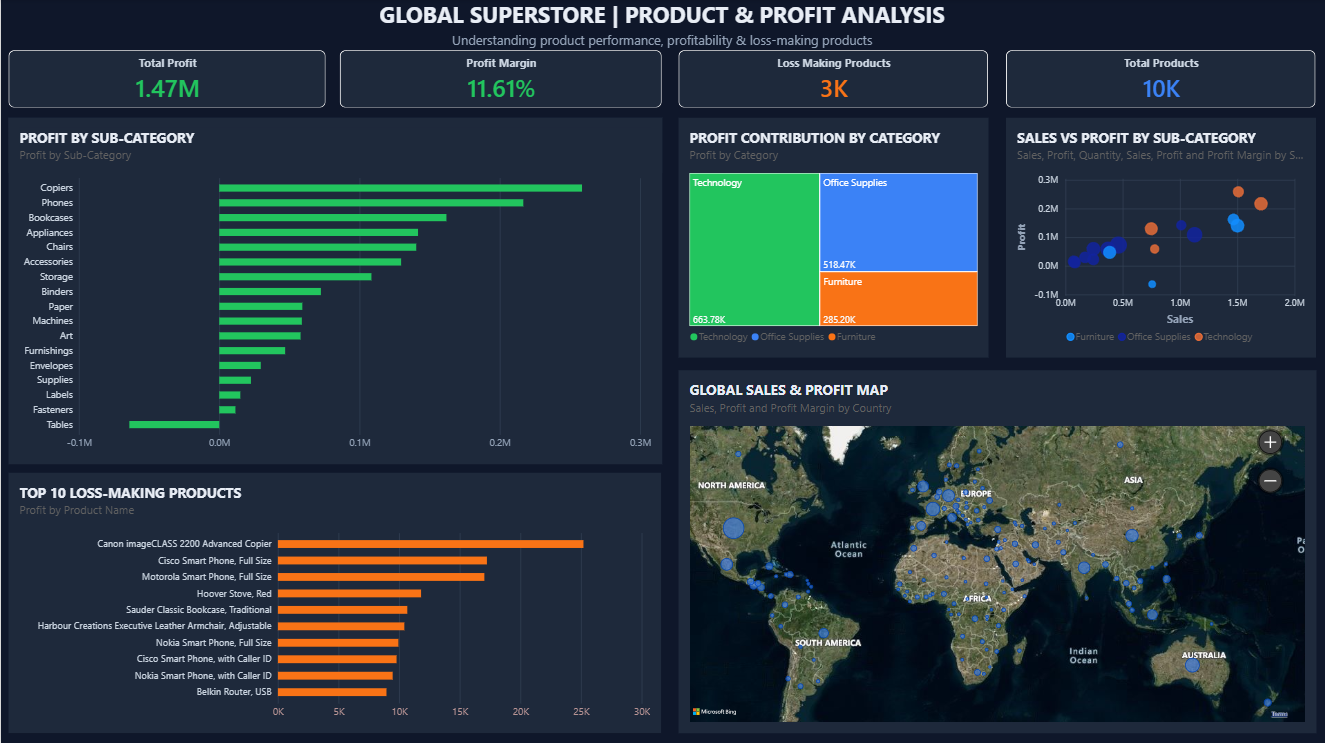

Layout of this report page (visuals, bound fields, positions):
{"tool":"powerbi","page":{"name":"Product & Profit Analysis","canvas":[1920,1080],"ordinal":1},"visuals":[{"type":"textbox","box":[10.9,0,1892.9,47.1],"z":0},{"type":"textbox","box":[10.9,47.1,1892.9,27.1],"z":1},{"type":"cardVisual","title":"TOTAL PROFIT","fields":{"Data":["Sum(superstore_db orders.Profit)"]},"box":[10.9,74.2,459.7,83.2],"z":2},{"type":"cardVisual","title":"TOTAL PROFIT","fields":{"Data":["superstore_db orders.Profit Margin"]},"box":[490.4,74.2,466.9,83.2],"z":6},{"type":"cardVisual","title":"TOTAL PROFIT","fields":{"Data":["superstore_db orders.Loss Making Products"]},"box":[980.8,74.2,448.8,83.2],"z":7},{"type":"cardVisual","title":"TOTAL PROFIT","fields":{"Data":["superstore_db orders.Total Products"]},"box":[1455,74.2,448.8,83.2],"z":8},{"type":"clusteredBarChart","title":"PROFIT BY SUB-CATEGORY","fields":{"Category":["superstore_db orders.Sub-Category"],"Y":["Sum(superstore_db orders.Profit)"]},"box":[10.9,171.9,946.5,501.3],"z":9},{"type":"clusteredBarChart","title":"TOP 10 LOSS-MAKING PRODUCTS","fields":{"Category":["superstore_db orders.Product Name"],"Y":["Sum(superstore_db orders.Profit)"]},"box":[10.9,685.9,944.6,376.4],"z":10},{"type":"treemap","title":"PROFIT CONTRIBUTION BY CATEGORY","fields":{"Group":["superstore_db orders.Category"],"Values":["Sum(superstore_db orders.Profit)"]},"box":[980.8,171.9,448.8,347.5],"z":11},{"type":"map","title":"GLOBAL SALES & PROFIT MAP","fields":{"Category":["superstore_db orders.Country"],"Size":["Sum(superstore_db orders.Sales)"]},"box":[980.8,537.5,922.9,524.8],"z":12},{"type":"scatterChart","title":"SALES VS PROFIT BY SUB-CATEGORY","fields":{"Category":["superstore_db orders.Sub-Category"],"Series":["superstore_db orders.Category"],"Size":["Sum(superstore_db orders.Quantity)"],"X":["Sum(superstore_db orders.Sales)"],"Y":["Sum(superstore_db orders.Profit)"]},"box":[1455,171.9,448.8,347.5],"z":13}]}

Visuals, with their boxes in screenshot pixels (x1, y1, x2, y2), scaled from the page's 1920x1080 canvas onto the 1325x743 screenshot:
textbox: select_region(8, 0, 1314, 32)
textbox: select_region(8, 32, 1314, 51)
"TOTAL PROFIT" cardVisual: select_region(8, 51, 325, 108)
"TOTAL PROFIT" cardVisual: select_region(338, 51, 661, 108)
"TOTAL PROFIT" cardVisual: select_region(677, 51, 987, 108)
"TOTAL PROFIT" cardVisual: select_region(1004, 51, 1314, 108)
"PROFIT BY SUB-CATEGORY" clusteredBarChart: select_region(8, 118, 661, 463)
"TOP 10 LOSS-MAKING PRODUCTS" clusteredBarChart: select_region(8, 472, 659, 731)
"PROFIT CONTRIBUTION BY CATEGORY" treemap: select_region(677, 118, 987, 357)
"GLOBAL SALES & PROFIT MAP" map: select_region(677, 370, 1314, 731)
"SALES VS PROFIT BY SUB-CATEGORY" scatterChart: select_region(1004, 118, 1314, 357)
